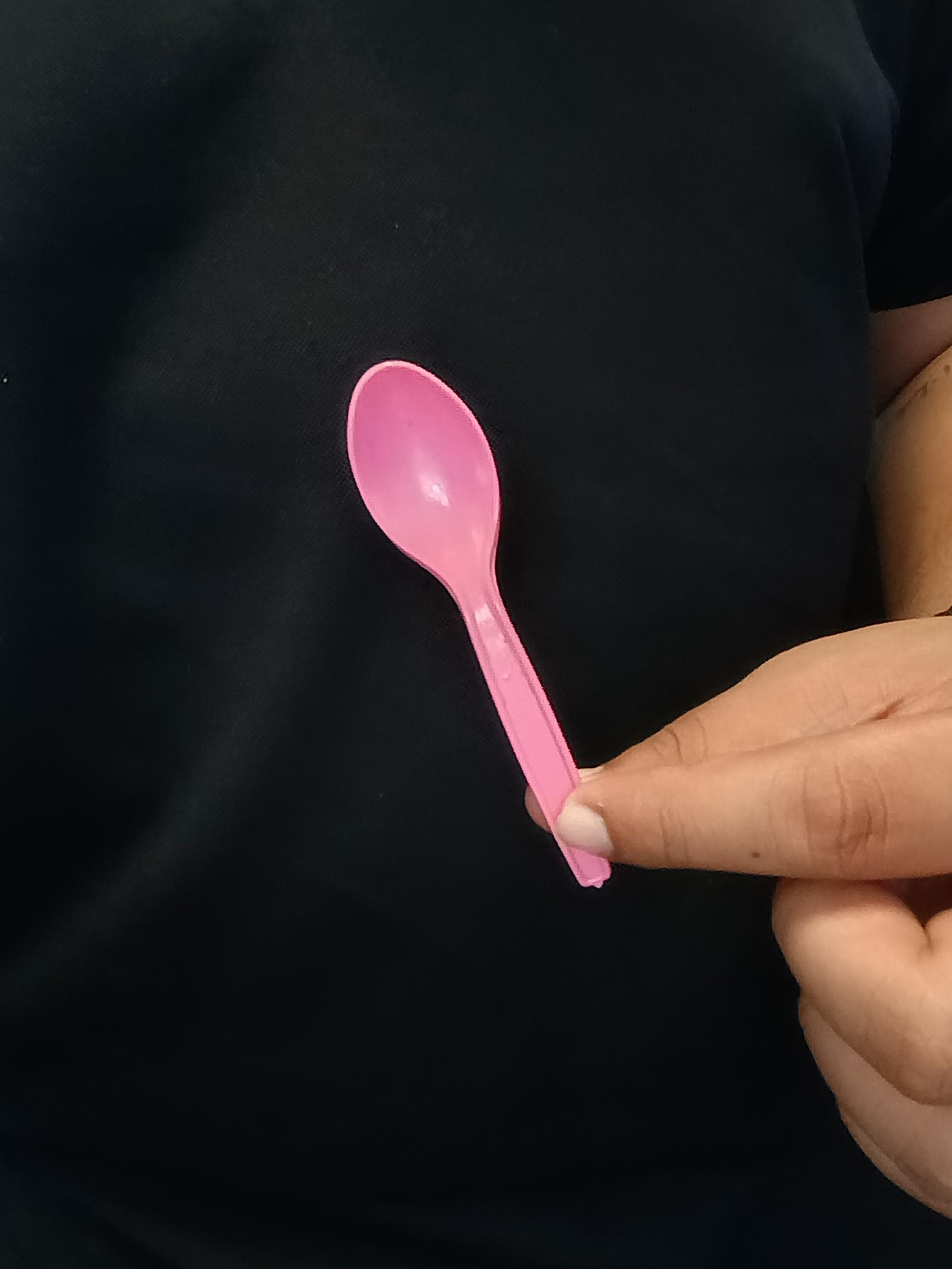Ordinario: (349, 358, 577, 805)
